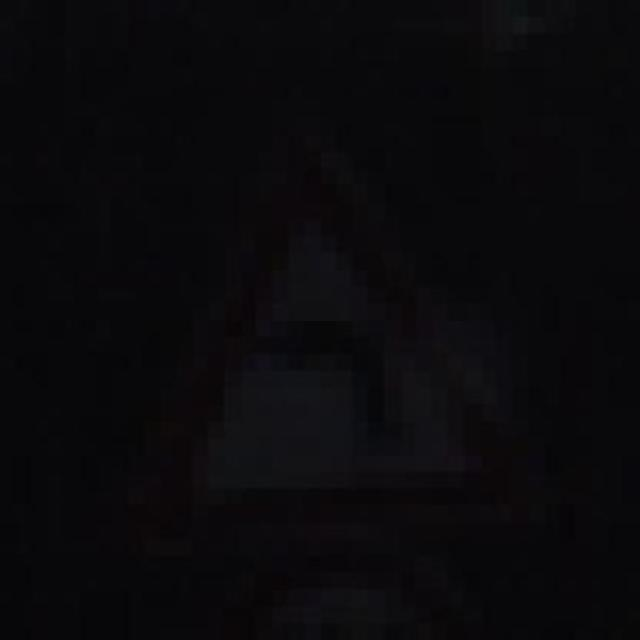Dangerous Left Curve Ahead: (111, 118, 528, 573)
